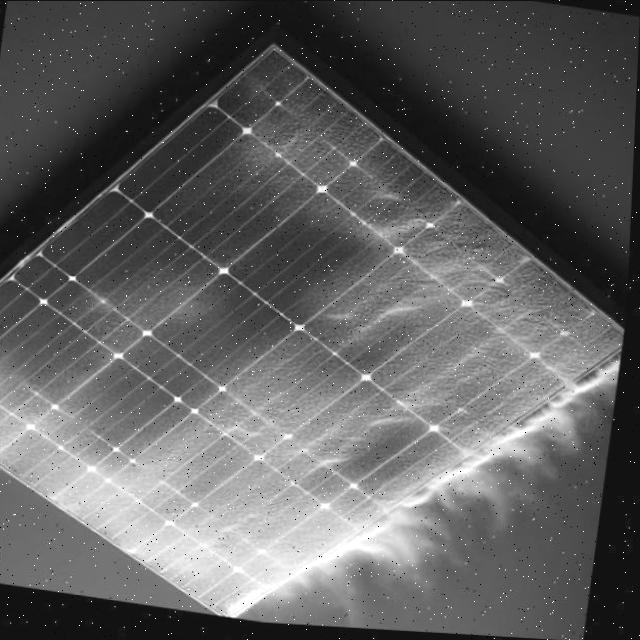Anomaly Solar Panel: (0, 49, 628, 622)
Surface Contaminant: (0, 20, 629, 630)
